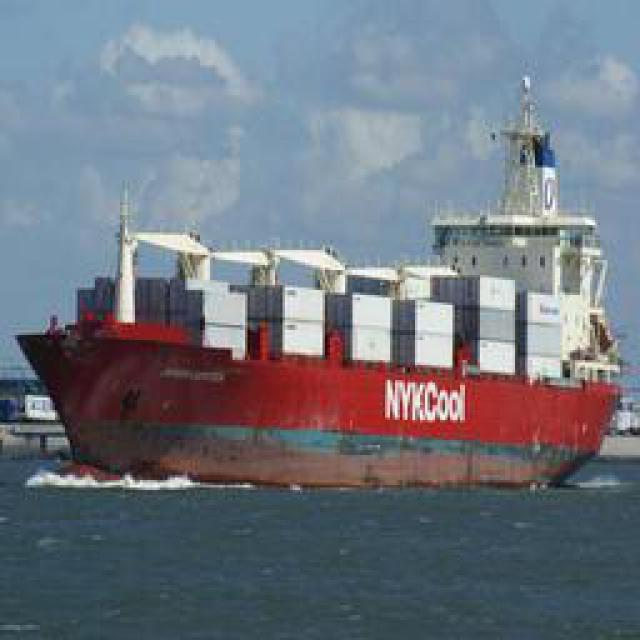Ship: (20, 90, 633, 478)
